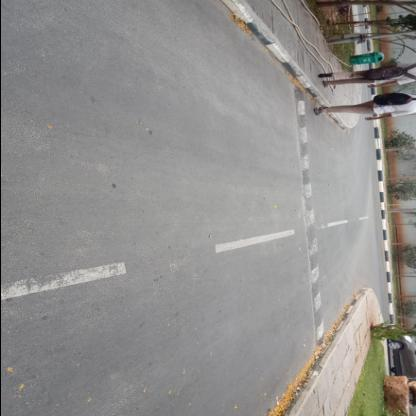speed-bumps: (286, 84, 334, 345)
